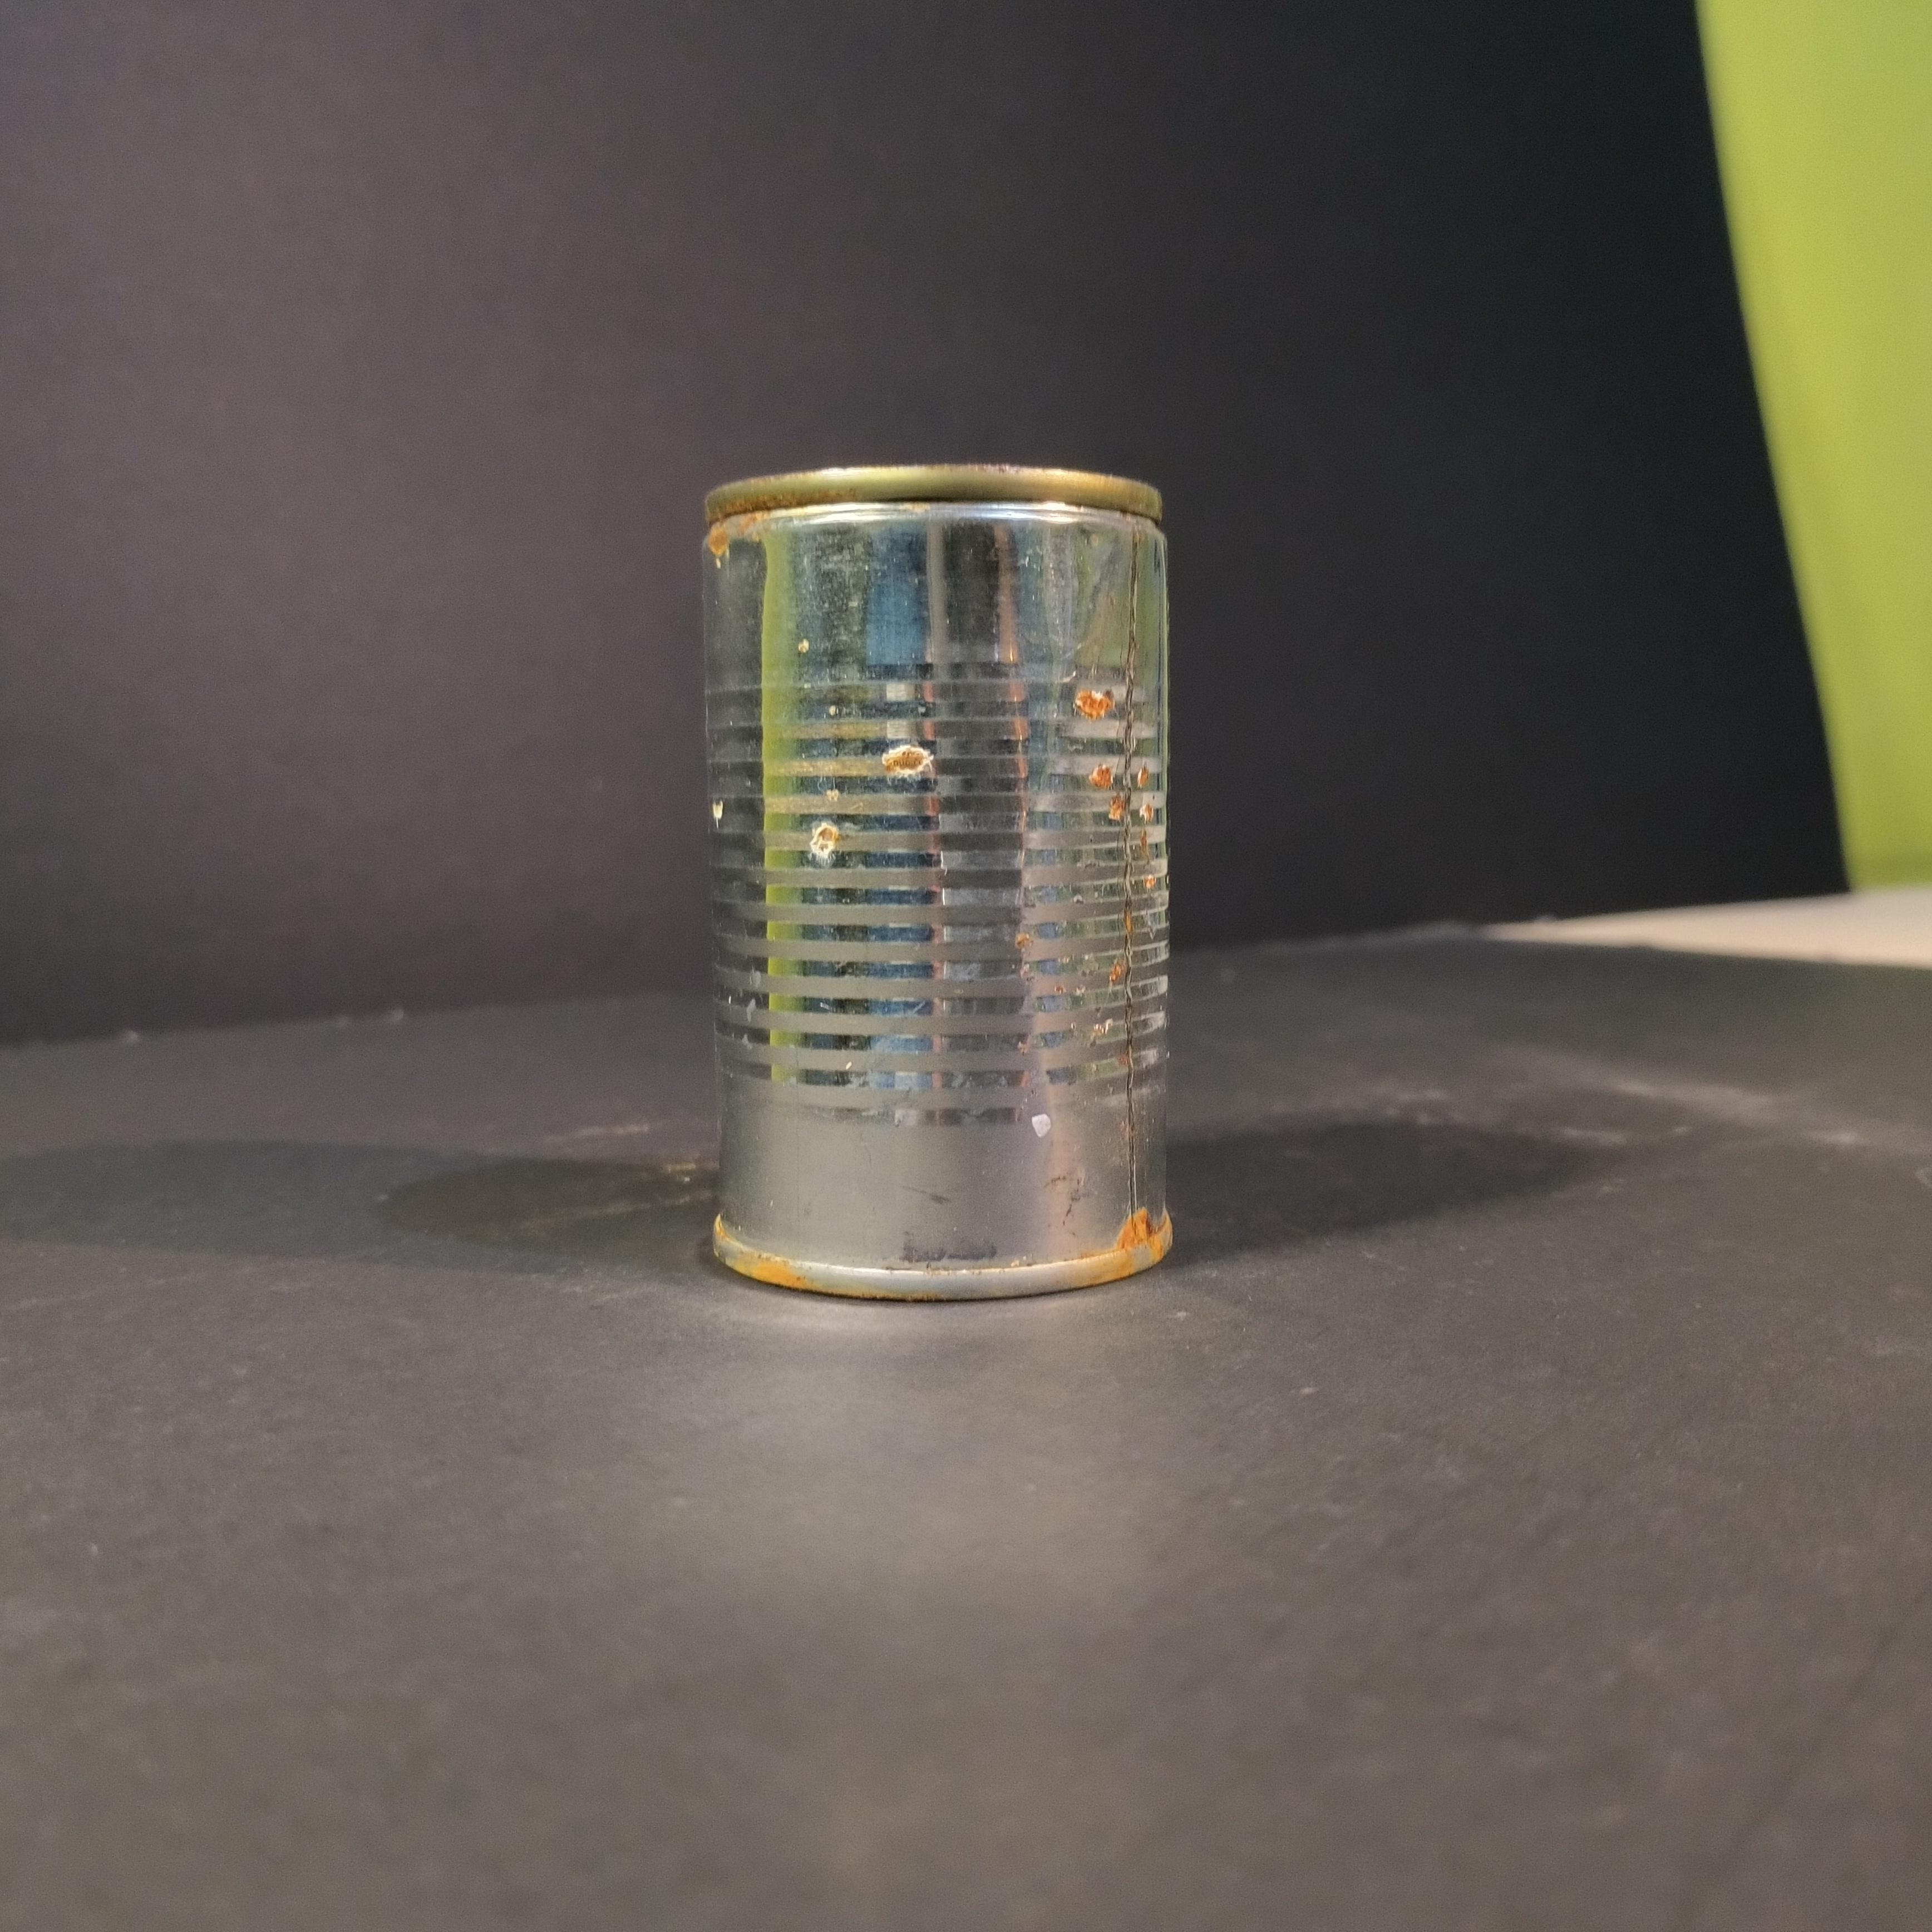Rusted: (671, 448, 1202, 1316)
